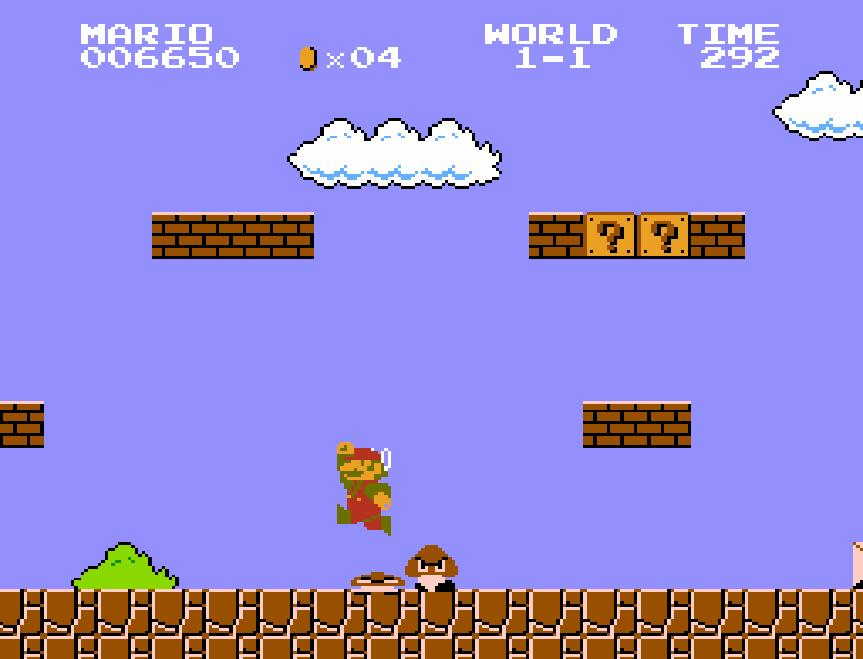big_mario: (335, 440, 393, 538)
